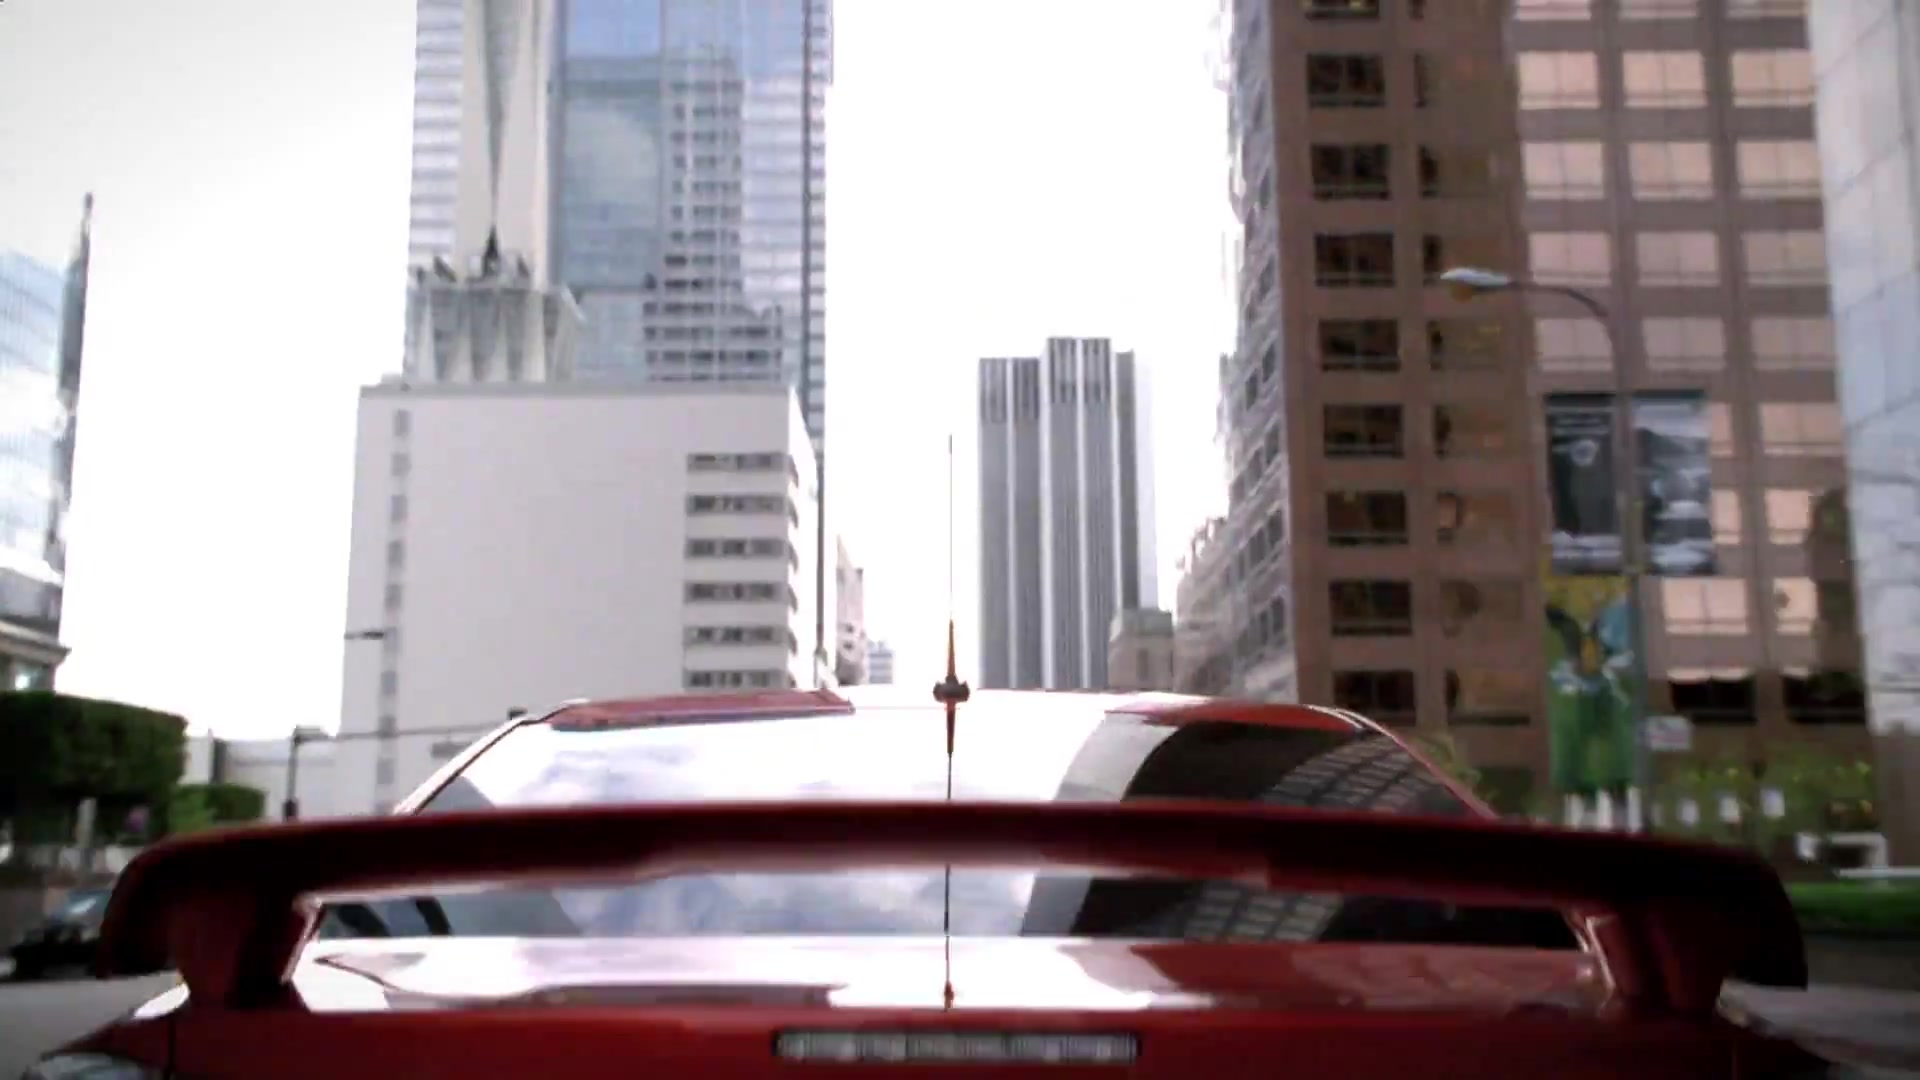car: (55, 679, 1836, 1080)
